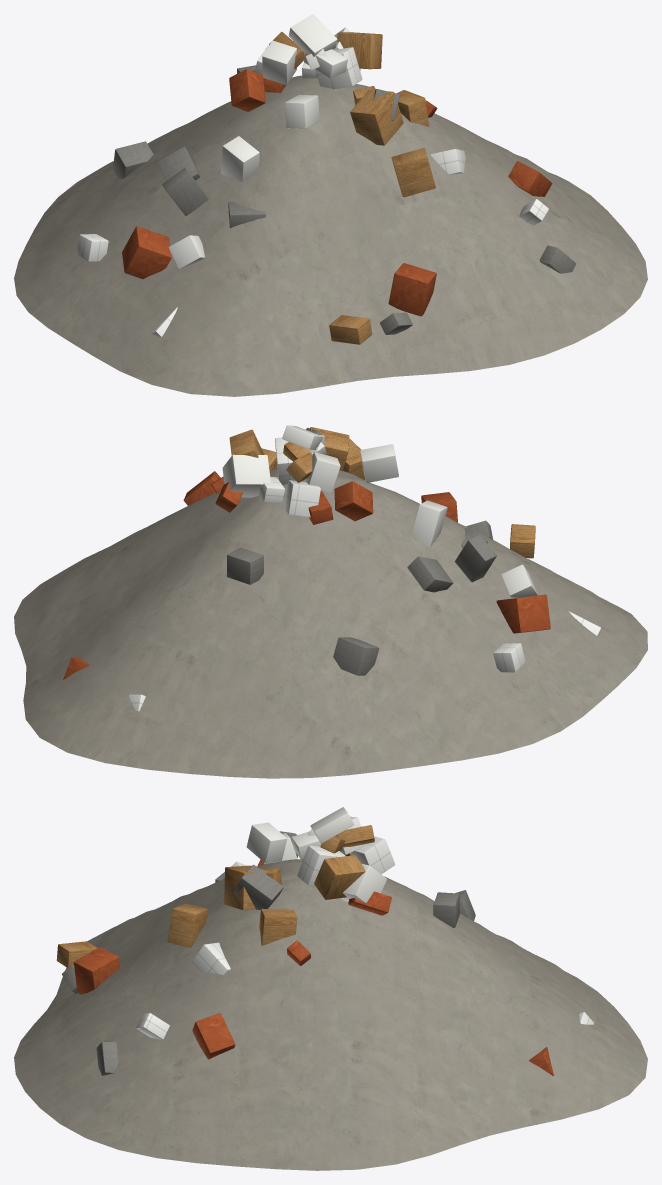
Rendered from LIM-ENT-001.glb.
3 views of the same model, one above another, from view 1: azimuth 30°, elevation 25°; view 2: azimuth 150°, elevation 25°; view 3: azimuth 270°, elevation 25° (orthographic).
Visible parts, largest first — view 1: LIM-ENT-001_monte, LIM-ENT-001_caco32, LIM-ENT-001_caco21, LIM-ENT-001_caco31, LIM-ENT-001_caco22, LIM-ENT-001_caco14, LIM-ENT-001_caco4, LIM-ENT-001_caco1, LIM-ENT-001_caco12, LIM-ENT-001_caco39, LIM-ENT-001_caco15, LIM-ENT-001_caco19 (+12 smaller); view 2: LIM-ENT-001_monte, LIM-ENT-001_caco21, LIM-ENT-001_caco34, LIM-ENT-001_caco10, LIM-ENT-001_caco1, LIM-ENT-001_caco15, LIM-ENT-001_caco19, LIM-ENT-001_caco14, LIM-ENT-001_caco25, LIM-ENT-001_caco5, LIM-ENT-001_caco13, LIM-ENT-001_caco39 (+13 smaller); view 3: LIM-ENT-001_monte, LIM-ENT-001_caco12, LIM-ENT-001_caco31, LIM-ENT-001_caco22, LIM-ENT-001_caco16, LIM-ENT-001_caco0, LIM-ENT-001_caco19, LIM-ENT-001_caco2, LIM-ENT-001_caco32, LIM-ENT-001_caco13, LIM-ENT-001_caco34, LIM-ENT-001_caco4 (+8 smaller).
Part boxes in pixels (x1,y1,x2,y2): LIM-ENT-001_monte: (14,75,647,396); LIM-ENT-001_caco32: (350,89,403,145); LIM-ENT-001_caco21: (122,226,171,278); LIM-ENT-001_caco31: (388,263,436,316); LIM-ENT-001_caco22: (391,148,435,197); LIM-ENT-001_caco14: (220,136,259,181); LIM-ENT-001_caco4: (288,14,337,56); LIM-ENT-001_caco1: (229,69,265,111); LIM-ENT-001_caco12: (337,32,382,69); LIM-ENT-001_caco39: (262,40,296,85); LIM-ENT-001_caco15: (162,167,208,216); LIM-ENT-001_caco19: (285,94,319,128); LIM-ENT-001_monte: (14,468,647,778); LIM-ENT-001_caco21: (496,594,550,633); LIM-ENT-001_caco34: (222,454,270,497); LIM-ENT-001_caco10: (333,637,379,675); LIM-ENT-001_caco1: (334,481,373,521); LIM-ENT-001_caco15: (455,535,496,582); LIM-ENT-001_caco19: (360,444,398,482); LIM-ENT-001_caco14: (411,500,447,547); LIM-ENT-001_caco25: (226,547,263,584); LIM-ENT-001_caco5: (407,556,453,592); LIM-ENT-001_caco13: (284,480,320,517); LIM-ENT-001_caco39: (305,452,340,493); LIM-ENT-001_monte: (14,859,647,1170); LIM-ENT-001_caco12: (314,855,365,899); LIM-ENT-001_caco31: (74,947,119,994); LIM-ENT-001_caco22: (167,903,208,947); LIM-ENT-001_caco16: (192,1013,235,1059); LIM-ENT-001_caco0: (233,864,283,909); LIM-ENT-001_caco19: (246,822,287,863); LIM-ENT-001_caco2: (259,908,297,945); LIM-ENT-001_caco32: (224,865,269,910); LIM-ENT-001_caco13: (350,836,395,874); LIM-ENT-001_caco34: (341,864,386,902); LIM-ENT-001_caco4: (310,807,354,843).
Bounding box in the file's own units: 1.74 × 0.716 × 1.78.
6 materials, 5 textured.
